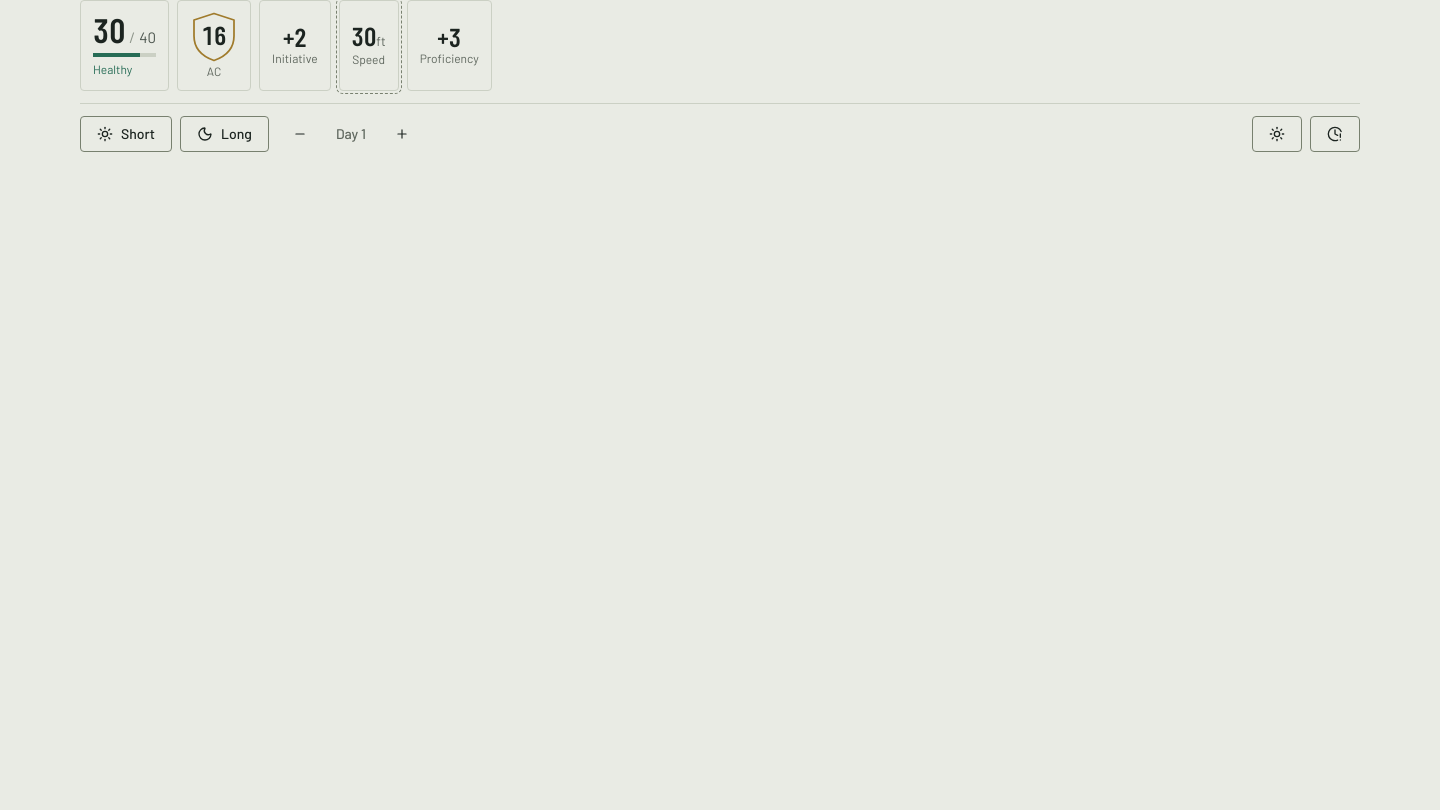
Scenario: CharacterHUD speed tile and sheet mode › opens the popover in edit mode
Step 1. Click the button with aria-label "Edit speeds" → (369, 45), box [338, 0, 399, 91]
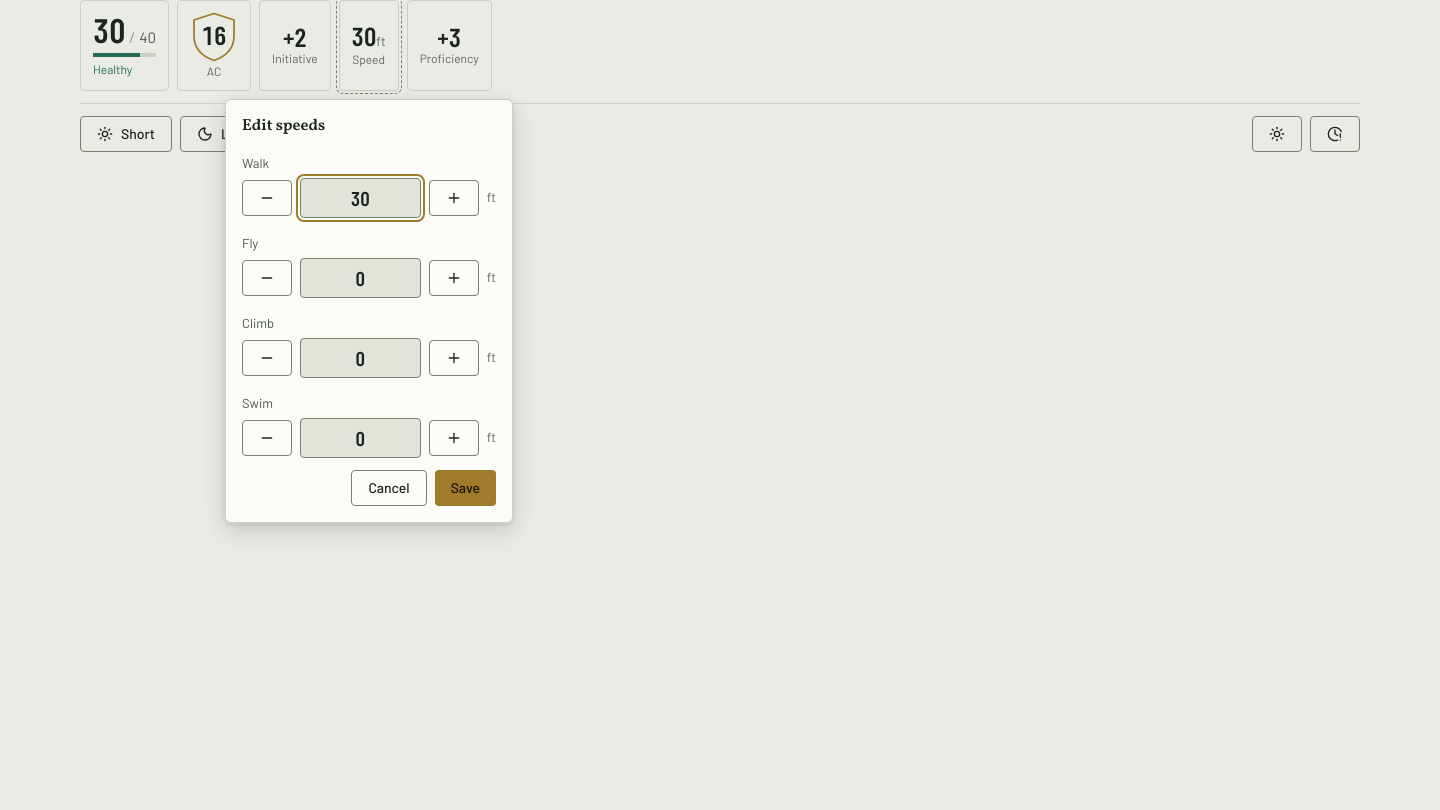
Now the text "Walk" is shown, box [242, 155, 269, 171]
